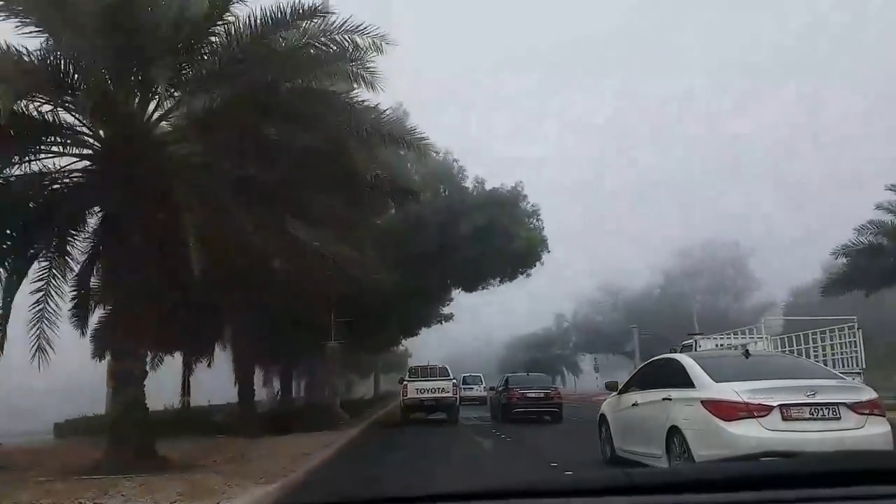bus: (664, 315, 872, 443)
car: (593, 346, 896, 493), (487, 370, 565, 425), (395, 360, 460, 423), (456, 373, 489, 405)
